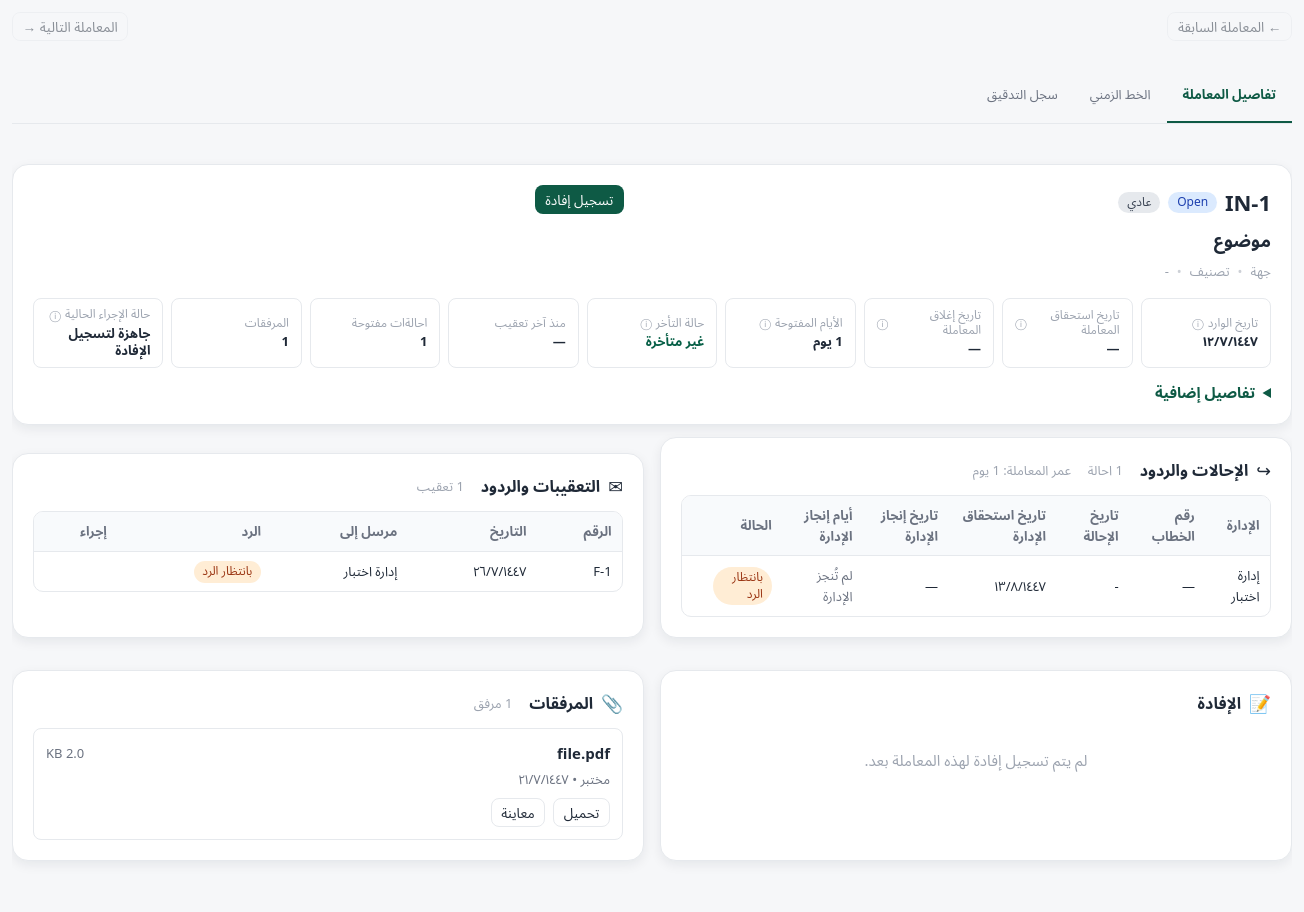
Test case: TransactionDetailPage department user permissions › opens a clear department response form and scrolls to it
Expected: the element named "معلومات المعاملة" is shown, [12,164,1292,424]
Expected: the element "الإحالات والردود" is shown, [660,437,1292,638]
Click the button "تسجيل إفادة" at (579, 200), box [535,185,624,214]
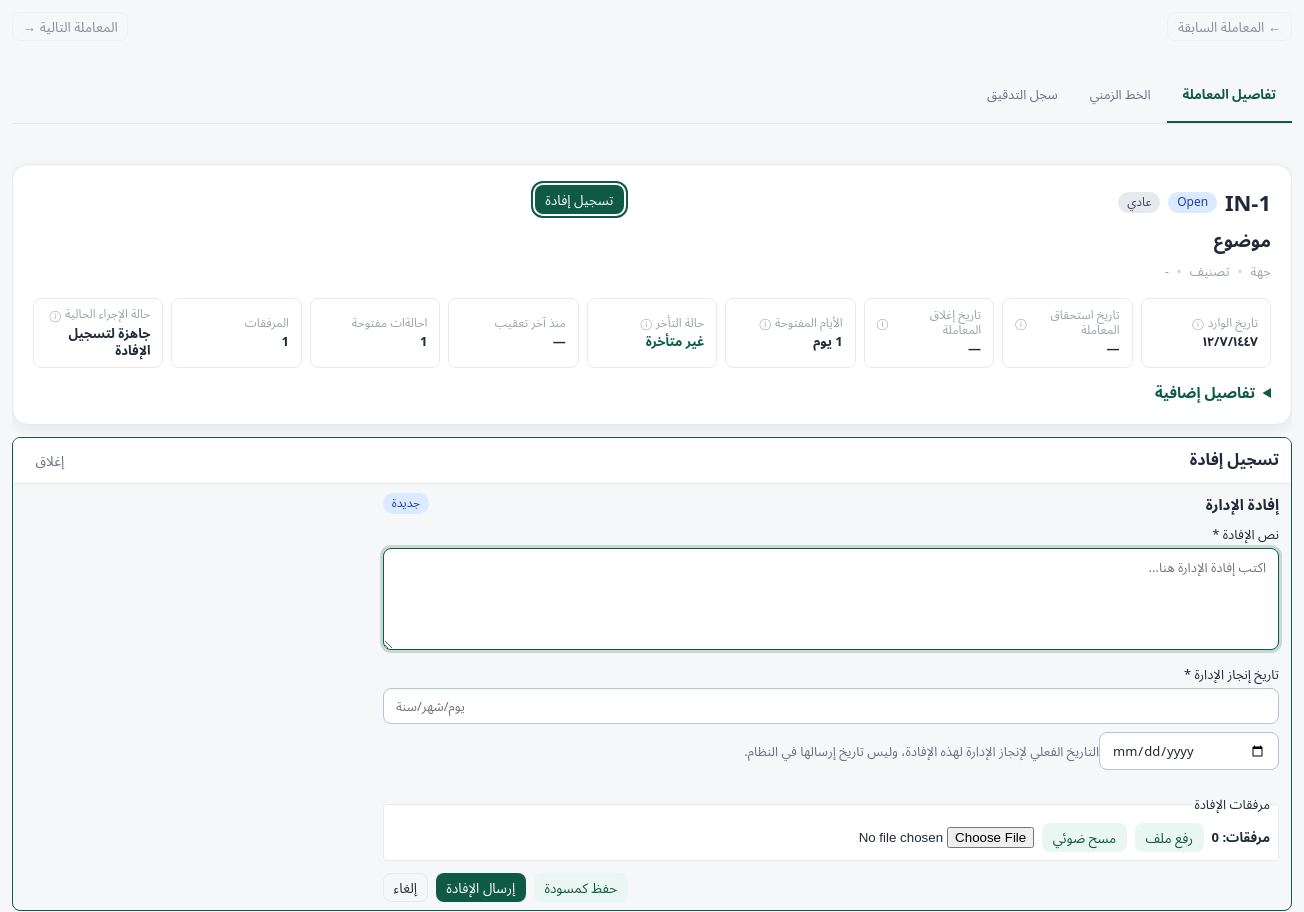
Result: the heading "إفادة الإدارة" is shown at [1206,492,1279,516]
Result: the button "رفع ملف" is enabled at [1135,823,1204,852]
Result: the button "مسح ضوئي" is enabled at [1042,823,1127,852]
